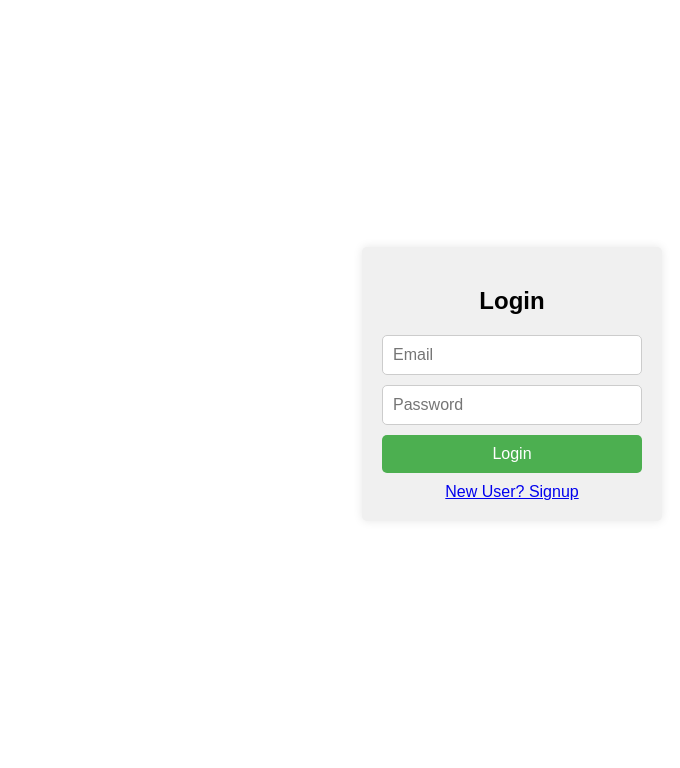
Test: App Component › login functionality
In the field with placeholder "Email": (512, 355) [382,335,642,375], type "test@example.com"
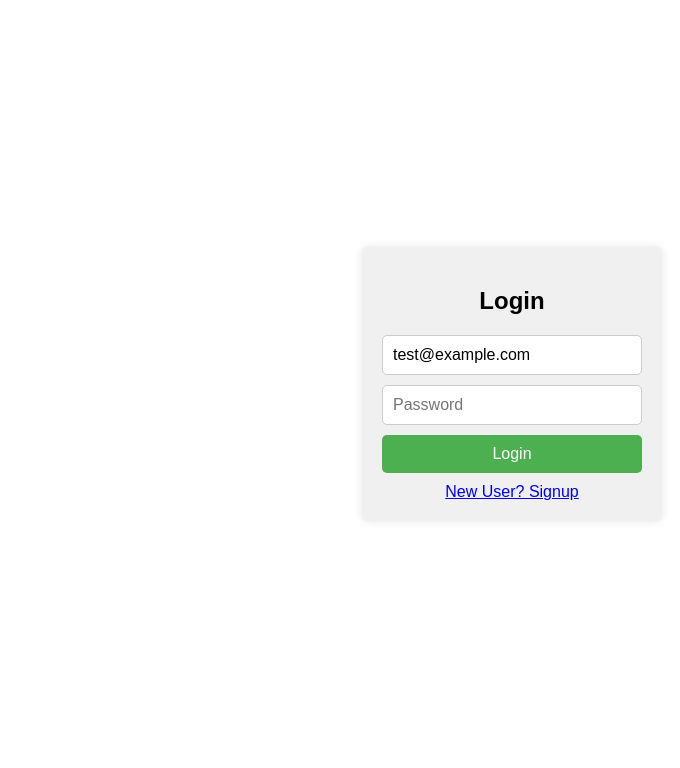
In the password field with placeholder "Password": (512, 405) [382,385,642,425], type "password123"
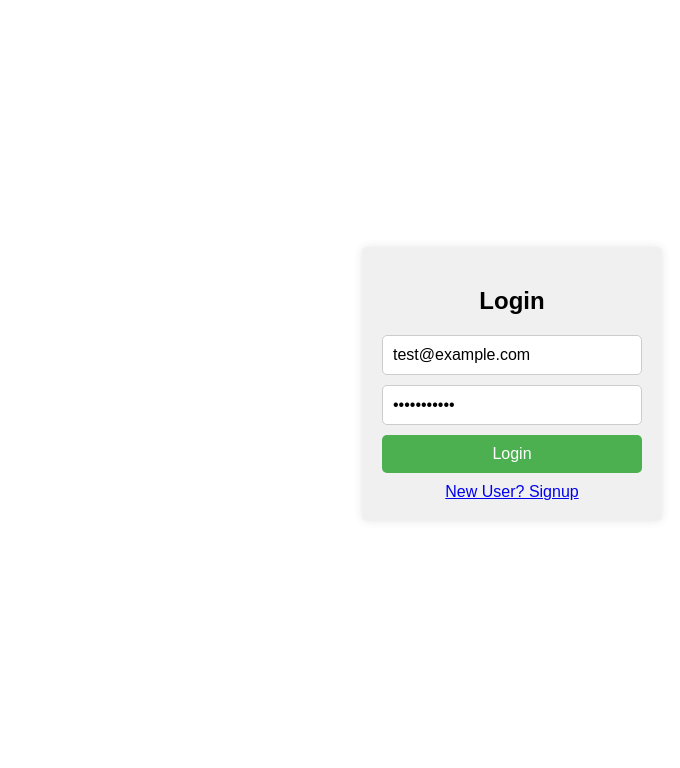
Click the button "Login": (512, 454) [382,435,642,473]
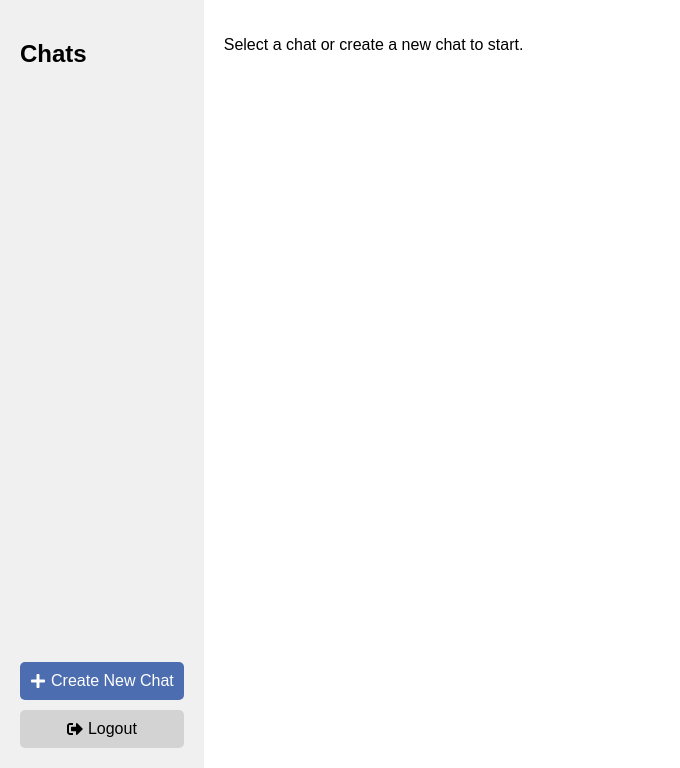
expect the button "Create New Chat" is shown: met, box [20,662,184,700]
